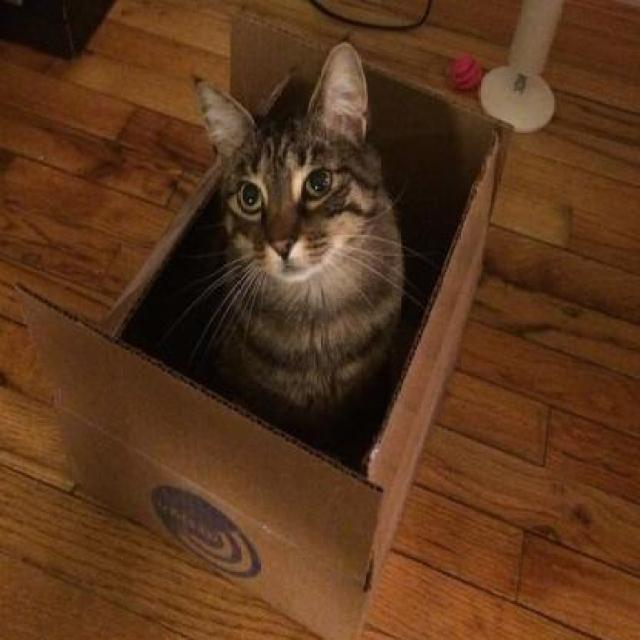box: (34, 0, 515, 640)
